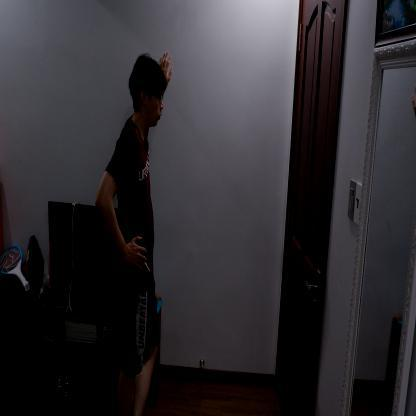cigarette: (144, 262, 150, 272)
person: (97, 51, 172, 415)
